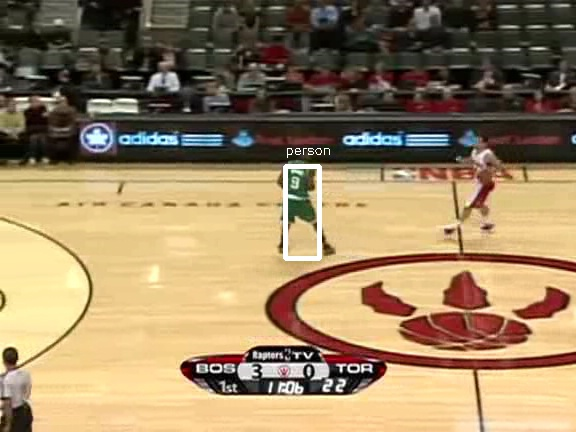person: (280, 153, 314, 234), (279, 153, 313, 234), (281, 153, 315, 234), (280, 152, 314, 233), (280, 154, 314, 235)
target_negative: (196, 229, 484, 401), (274, 204, 401, 414), (393, 185, 464, 270), (252, 374, 405, 403), (559, 125, 569, 429), (213, 153, 317, 182)
